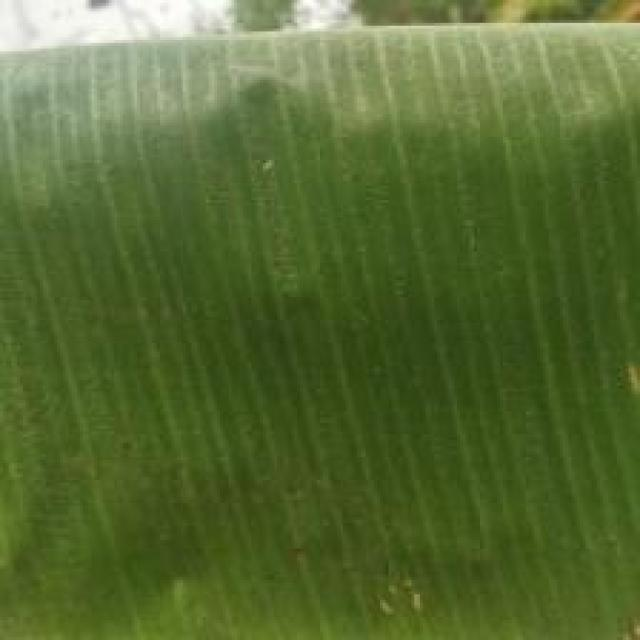Black_leaf_spot: (37, 37, 640, 630)
